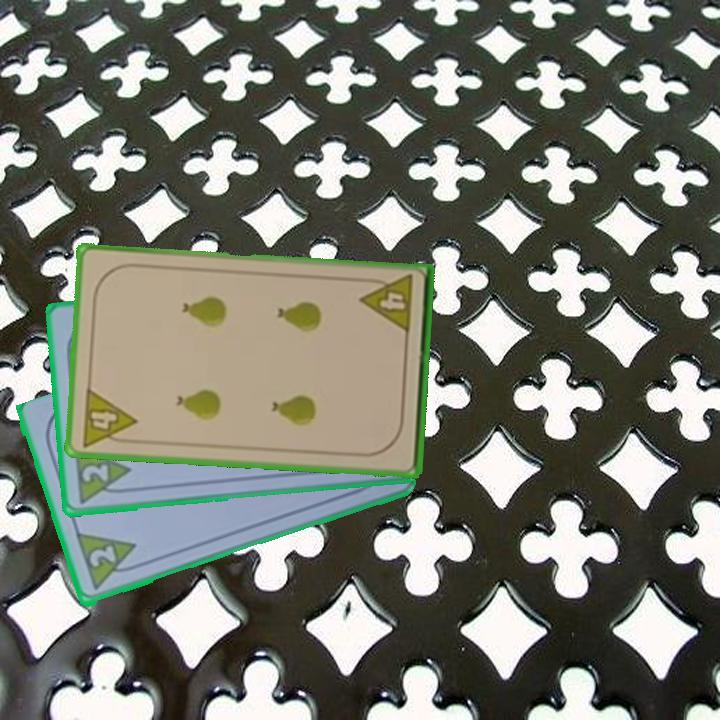2p: (70, 442, 134, 507), (85, 542, 119, 571)
4p: (78, 384, 139, 450), (357, 271, 416, 337)
